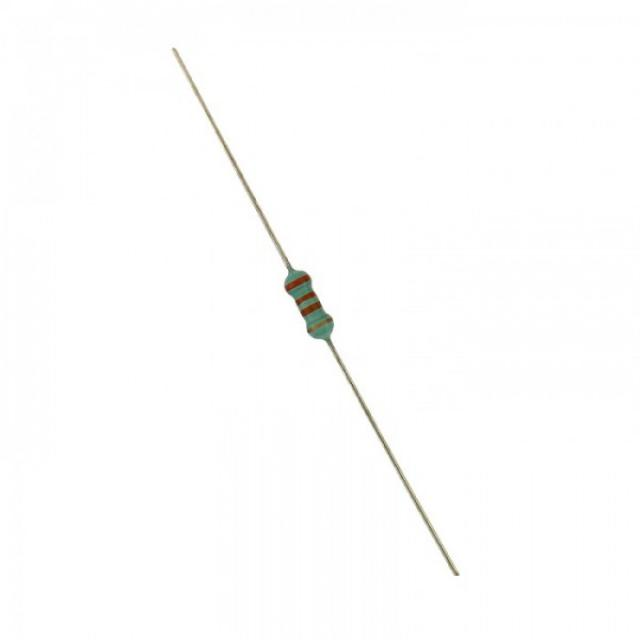Resistor: (283, 269, 334, 342)
